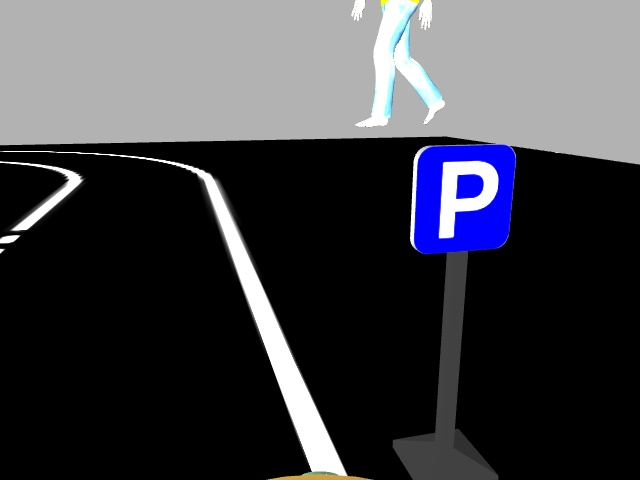Parking: (408, 141, 517, 254)
